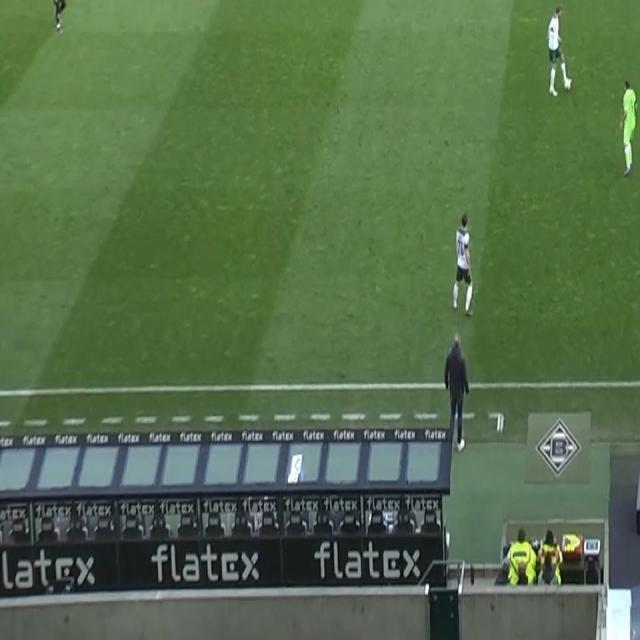ball: (564, 78, 571, 91)
